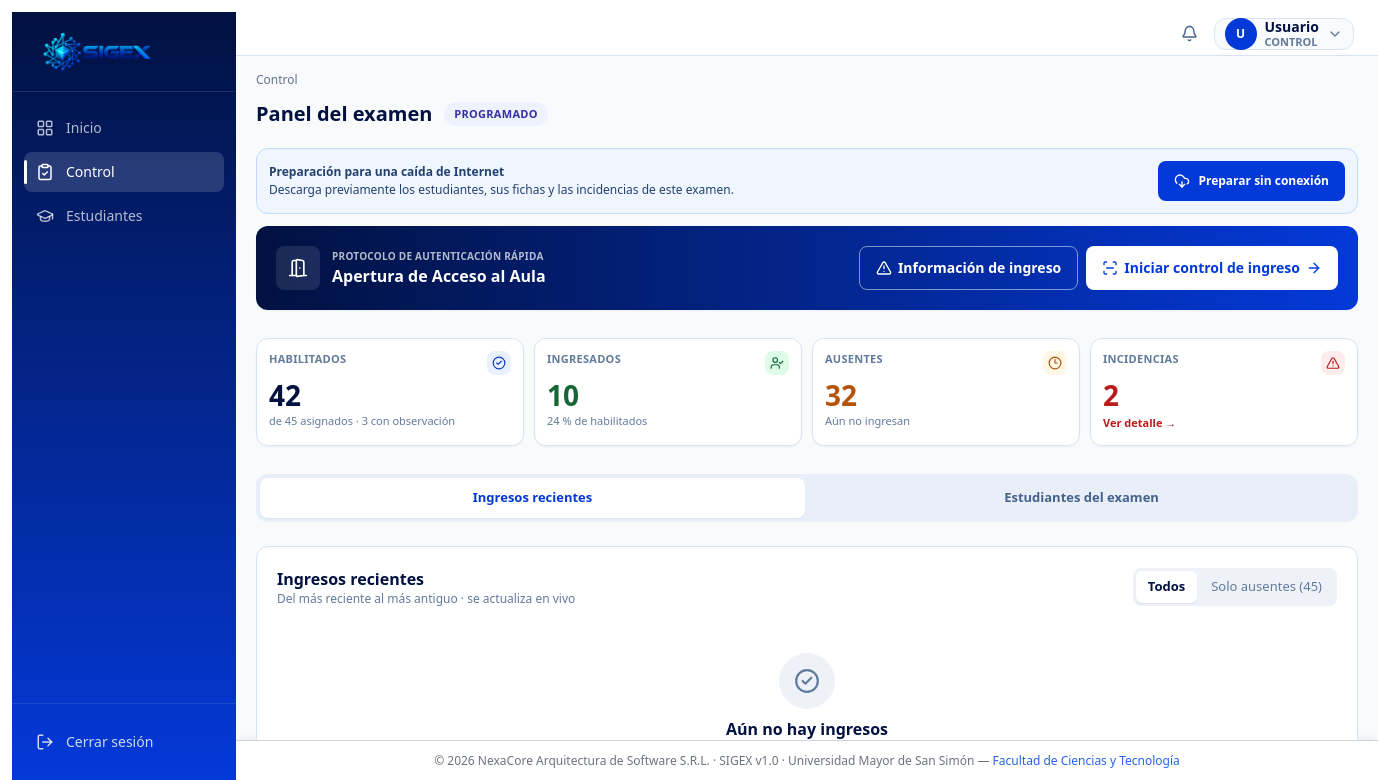
Test: ControlExamenPage › reinicia el filtro e ignora respuestas demoradas de la página y el filtro anteriores
Click the tab "Estudiantes del examen": (1082, 498) [809,478,1354,518]
(page scrolled)
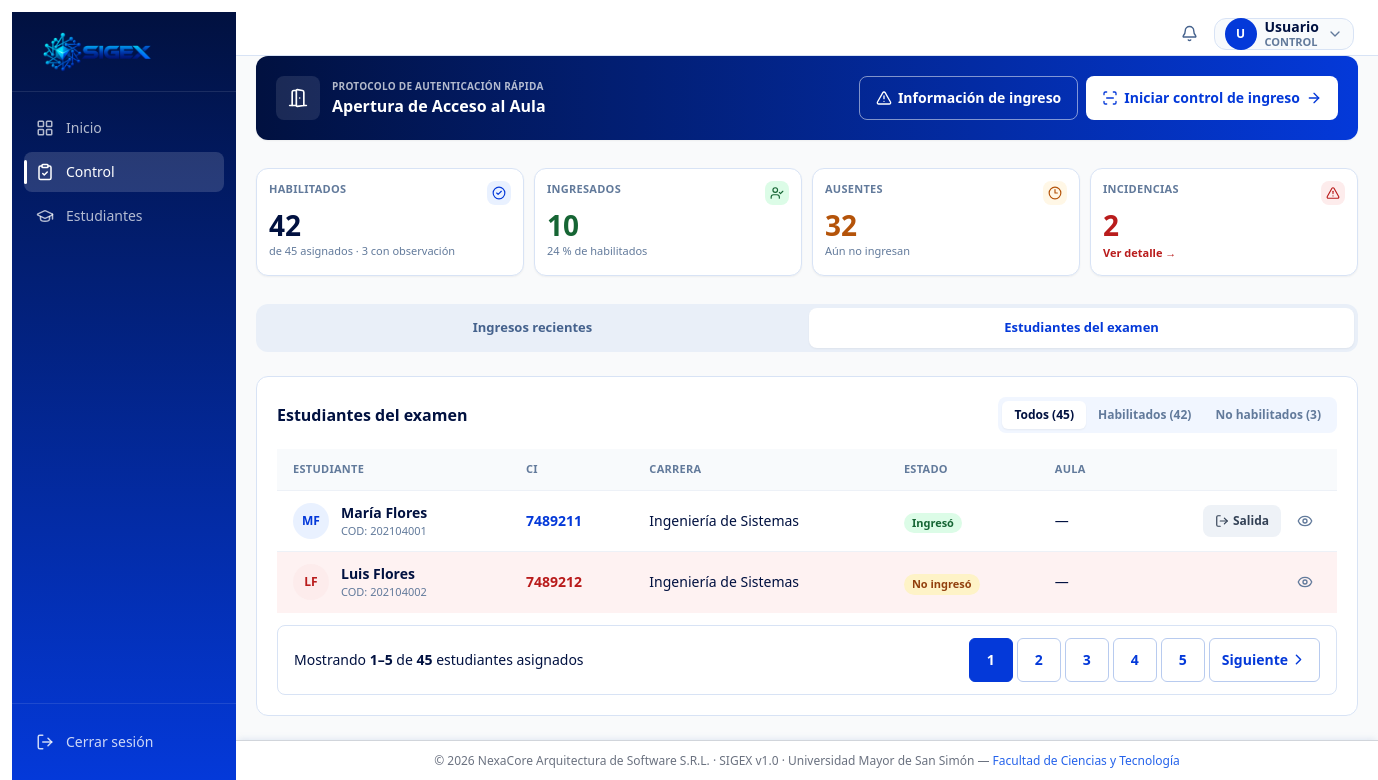
Click the button with aria-label "Página siguiente": (1264, 660) [1209,638,1320,682]
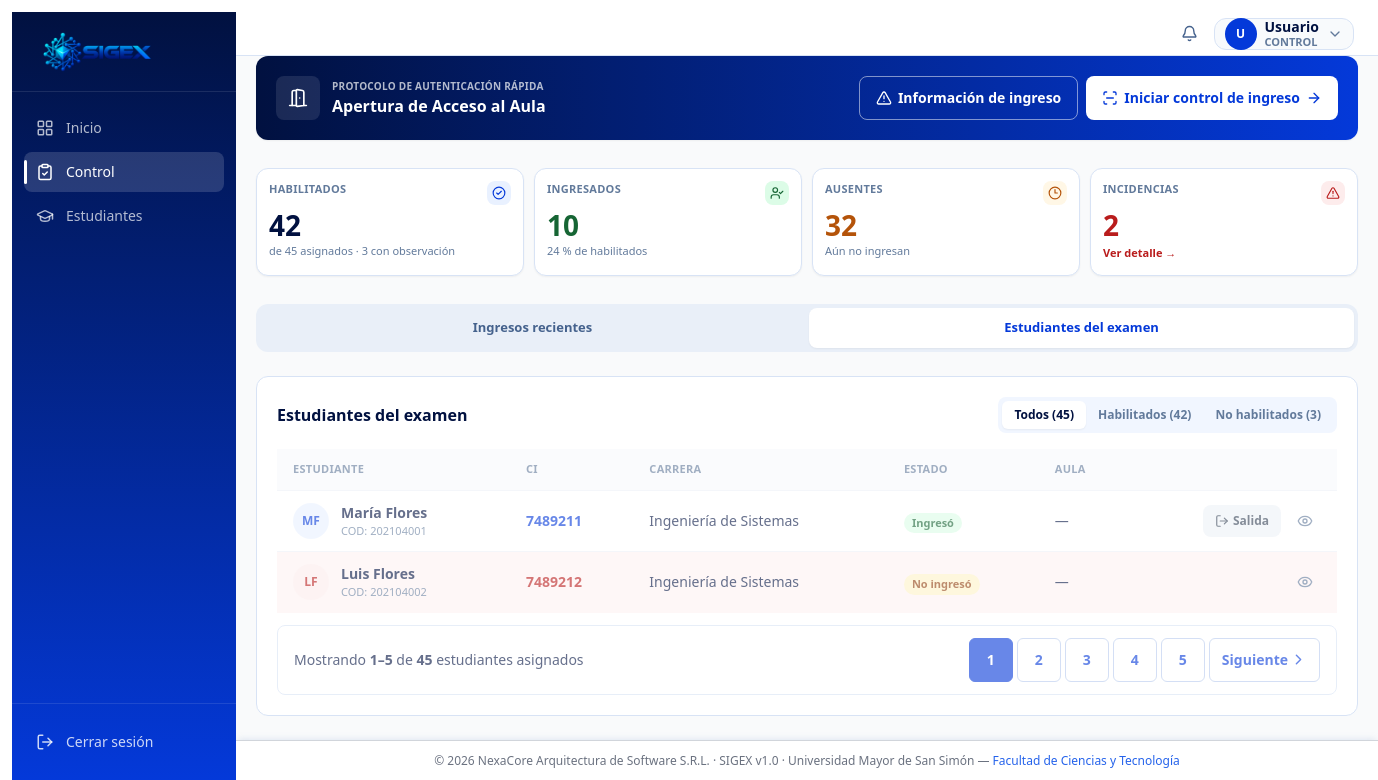
Click the button "Habilitados (42)": (1145, 415) [1086,401,1203,429]
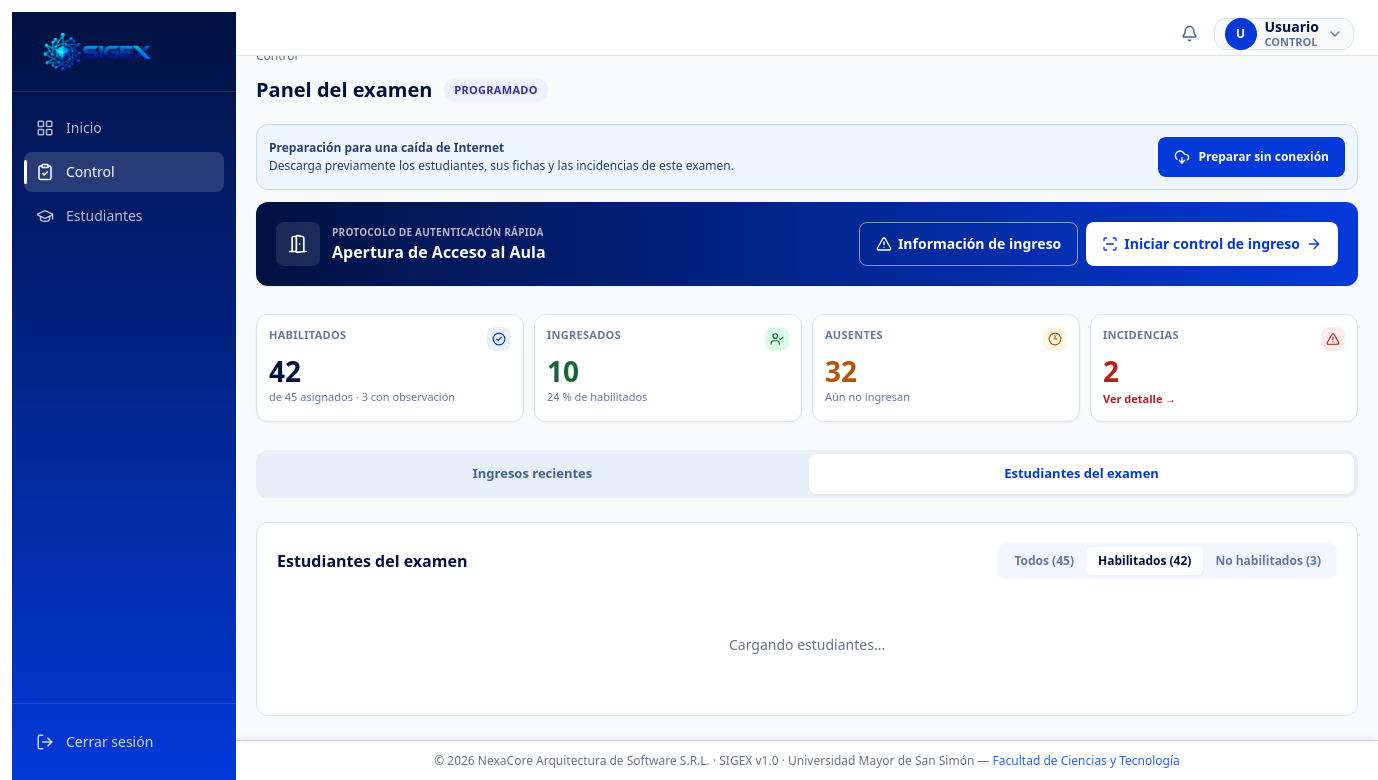
Now the table is gone
Click the button "Todos (45)": (1044, 561) [1002,547,1086,575]
(page scrolled)
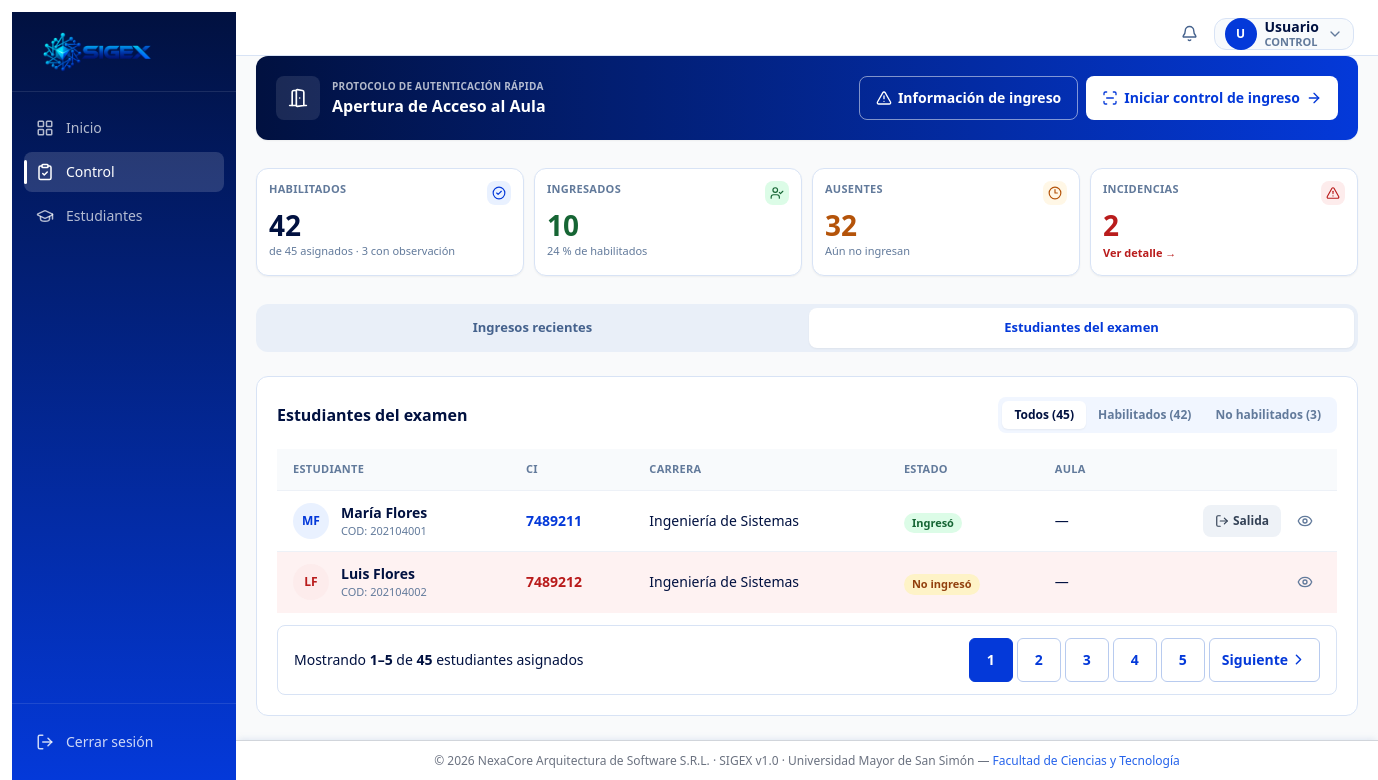
Now the table is shown, box [277,449,1337,612]
Now the text "María Flores" is shown, box [341,502,427,522]
